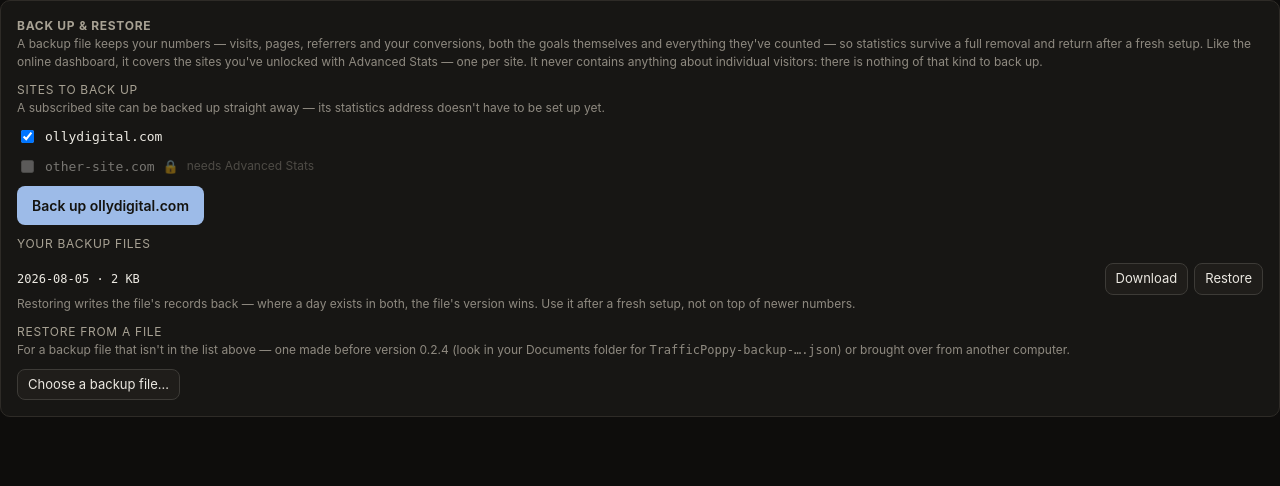
it: Back up & restore › restore is two-step confirmed, then reports what came back
Click the button "Restore". click: {"x": 1229, "y": 279}
box: [1194,263,1263,294]
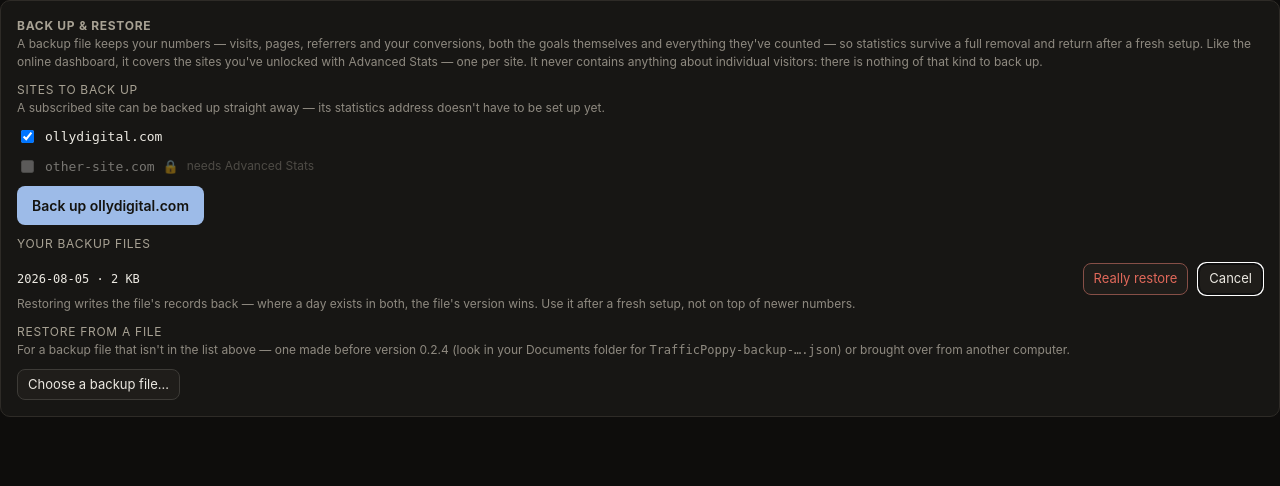
Click the button "Really restore". click: {"x": 1135, "y": 279}
box: [1082,263,1188,294]
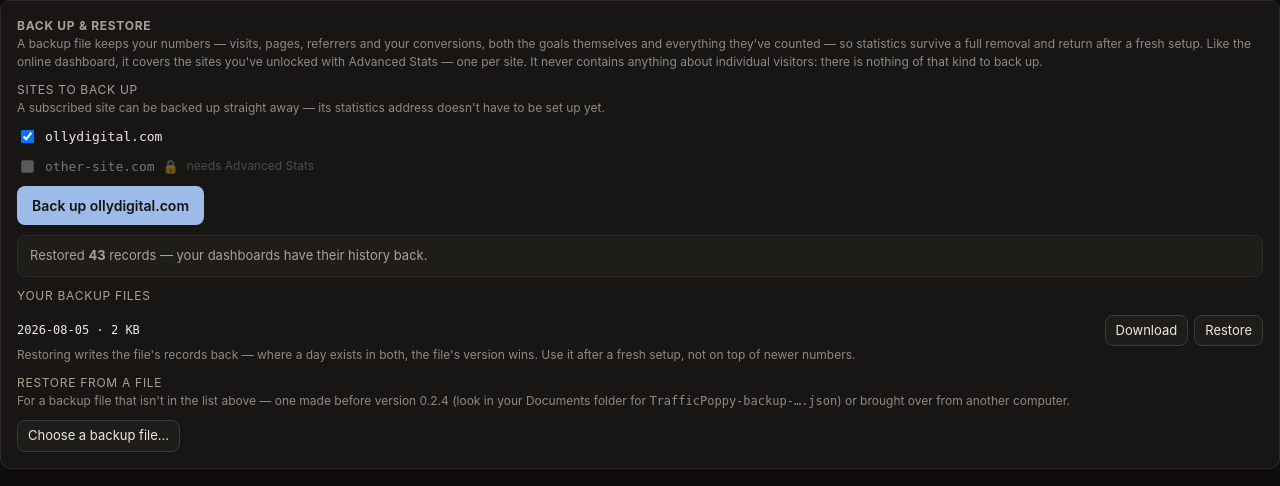
Check: the text "have their history back" is shown, box [106,247,428,263]
